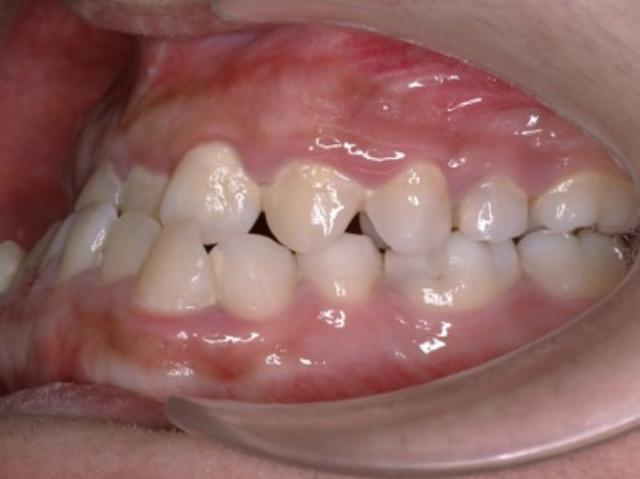canine class III full class: (132, 139, 376, 323)
molar class III full class: (380, 158, 640, 316)
